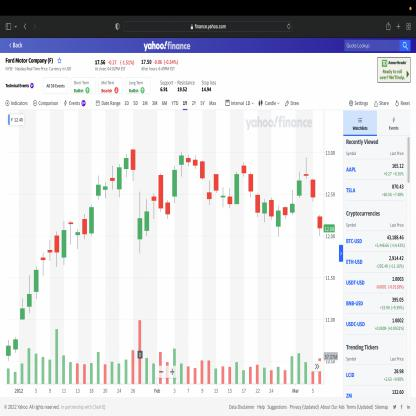Bearish Abandoned Baby: (296, 155, 316, 204)
Bullish 3 White Soldiers: (19, 262, 40, 326)
Bullish Kicker: (164, 164, 178, 222)
